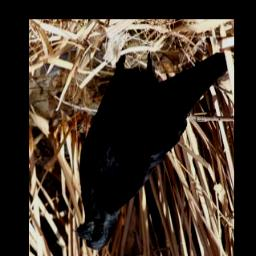Crow: (73, 51, 228, 252)
